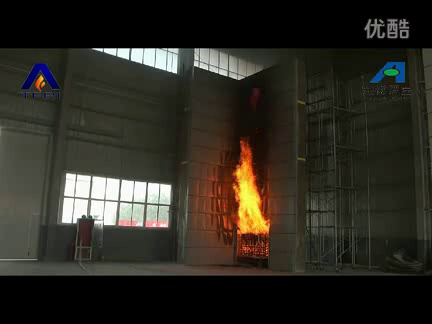fire: (232, 137, 271, 234)
